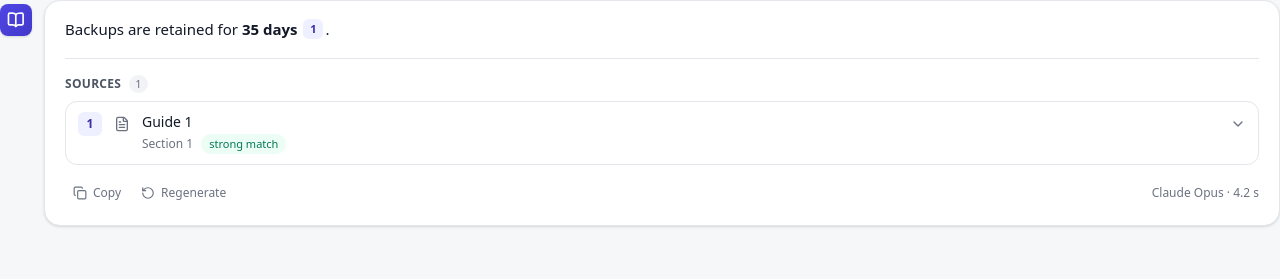
AssistantBubble › renders Markdown, citation chips and source cards
The image size is (1280, 279).
Check: the element "Sources" shows "Guide 1", box [142,112,193,131]
Check: the element "Sources" shows "Section 1", box [142,135,193,152]
Click the button named "Show source 1" at (313, 29), box [303,19,323,39]
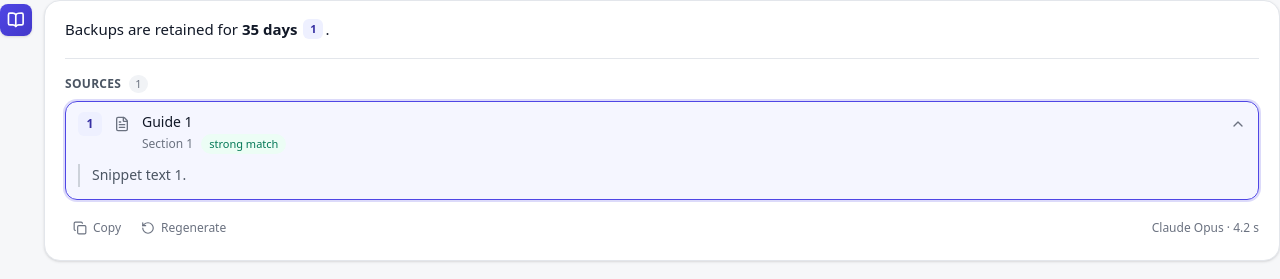
Check: the text "Snippet text 1." is shown, box [78,164,1246,187]
